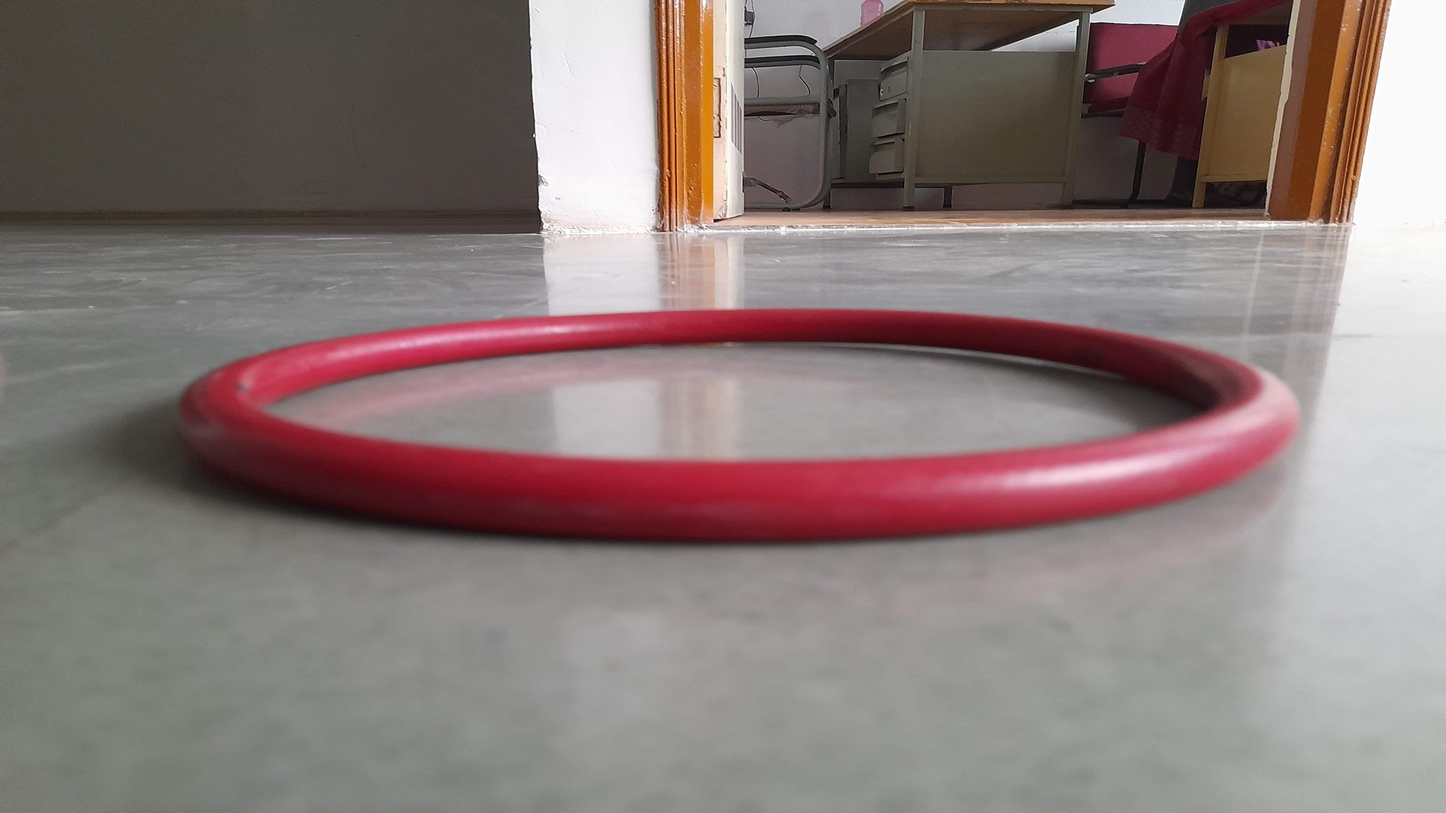Red ring: (185, 309, 1301, 541)
